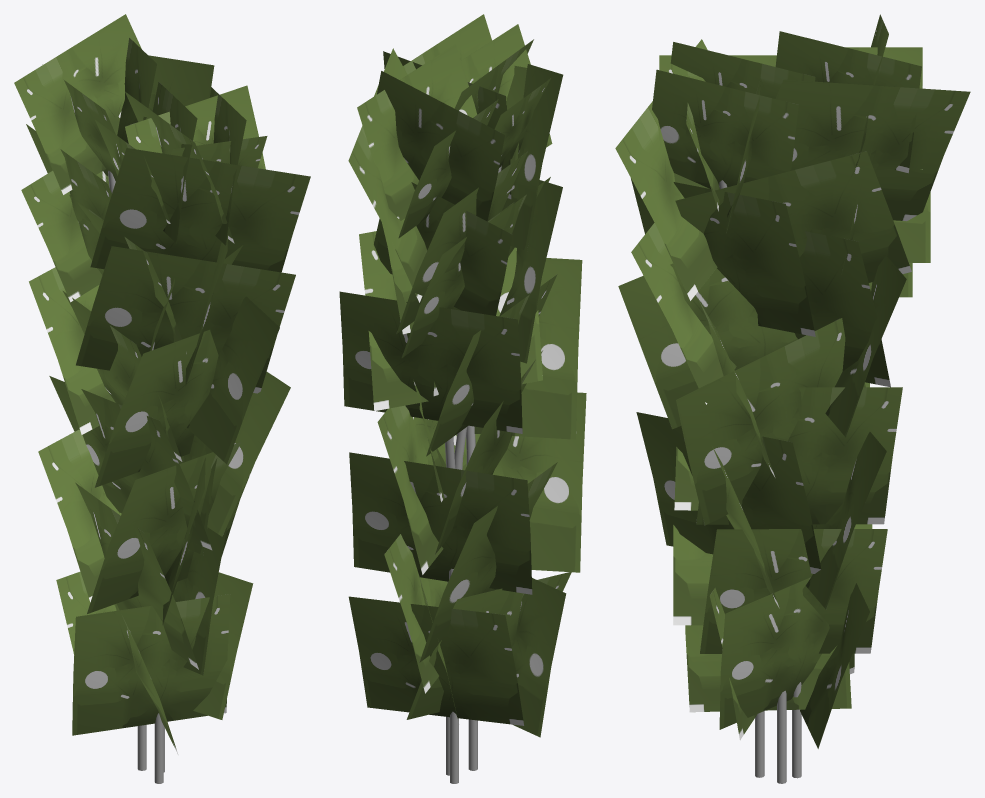
File: Bambou.fbx
3 views of the same model, side by side, from view 1: azimuth 30°, elevation 25°; view 2: azimuth 150°, elevation 25°; view 3: azimuth 270°, elevation 25° (orthographic). The views are drawn at different scales.
Parts seen in each view (by area): view 1: pPlane50; view 2: pPlane50; view 3: pPlane50.
Part boxes in pixels (x1,y1,x2,y2): pPlane50: [14, 14, 310, 783]; pPlane50: [339, 14, 586, 783]; pPlane50: [615, 14, 970, 783].
Bounding box in the file's own units: 0.4001 × 1.47 × 0.6252.
